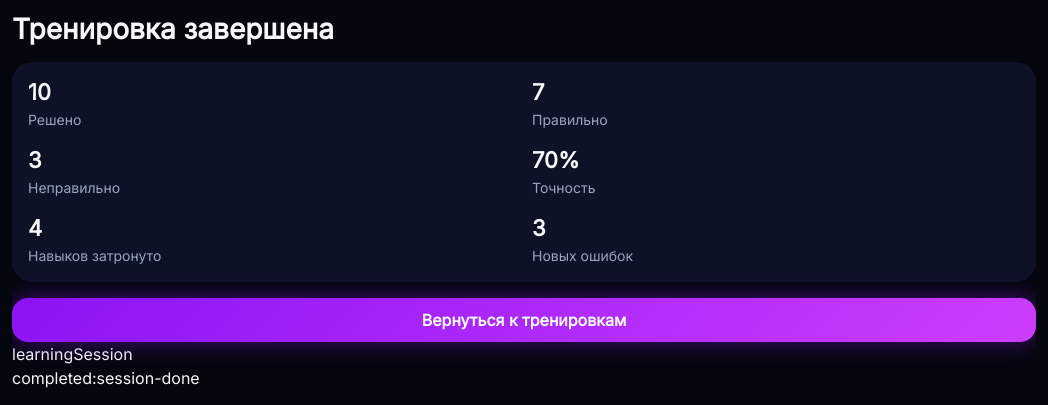
LearningSession — refresh/direct-link recovery (Phase 10) › renders the real backend summary fields on a completed session, never invented stats
The width and height of the screenshot is (1048, 405).
Expected: the heading "Тренировка завершена" is shown, [12, 12, 334, 46]
Expected: the text "10" is shown, [28, 79, 51, 105]
Click the button "Вернуться к тренировкам" at x=524, y=320, box [12, 298, 1036, 342]
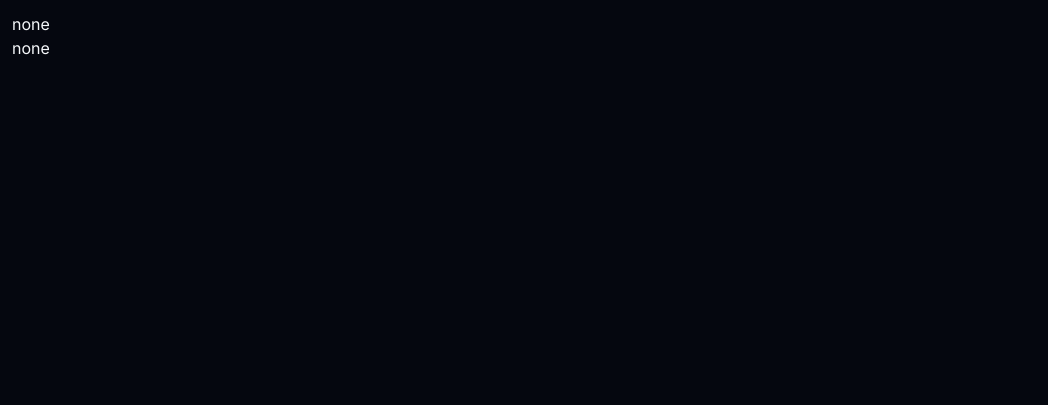
Result: the text with test id "overlay" reads "none" at [12, 14, 50, 34]
